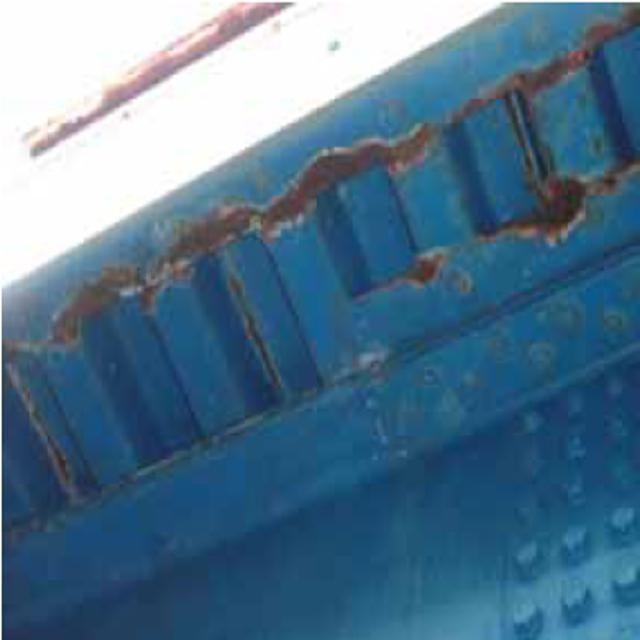corrosion: (46, 52, 618, 358)
